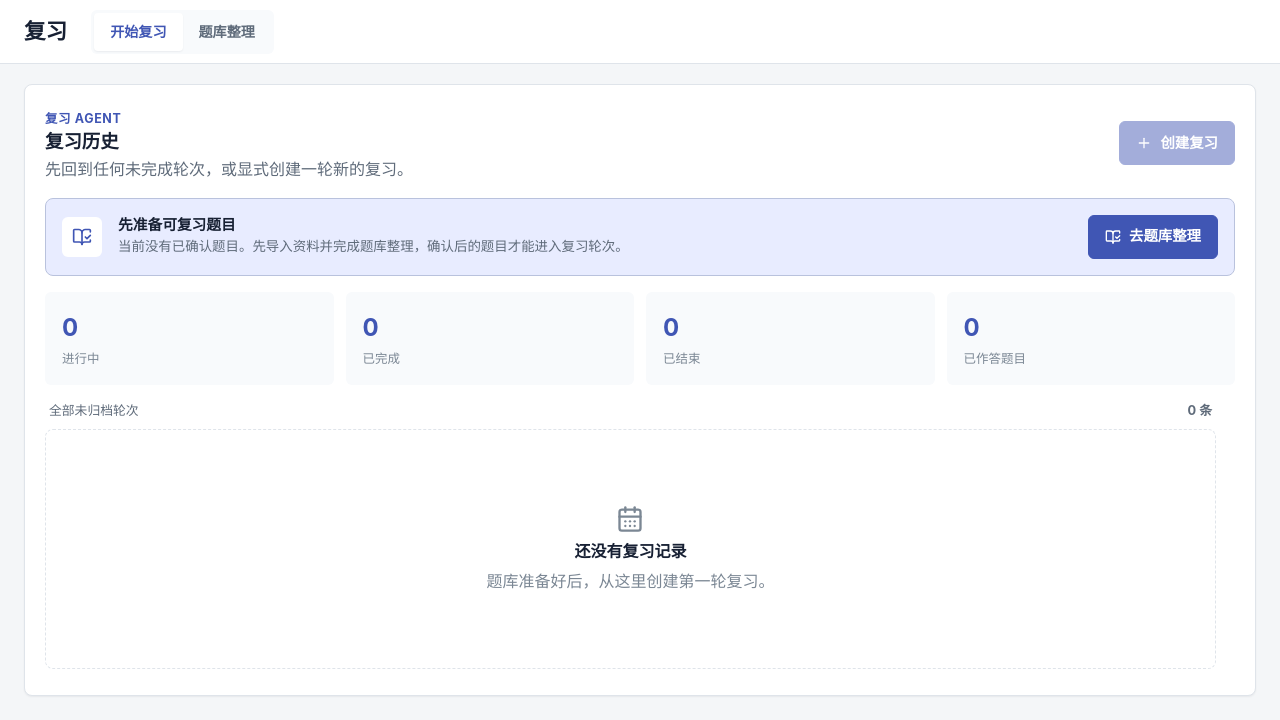
R2 ReviewPage › separates question curation and review as primary entries
Expected: the button "创建复习" is disabled, x1=1119 y1=121 x2=1235 y2=165
Expected: the message named "题库尚未准备好" is shown, x1=45 y1=198 x2=1235 y2=276
Click the button "去题库整理": click(1153, 237) x1=1088 y1=215 x2=1218 y2=259
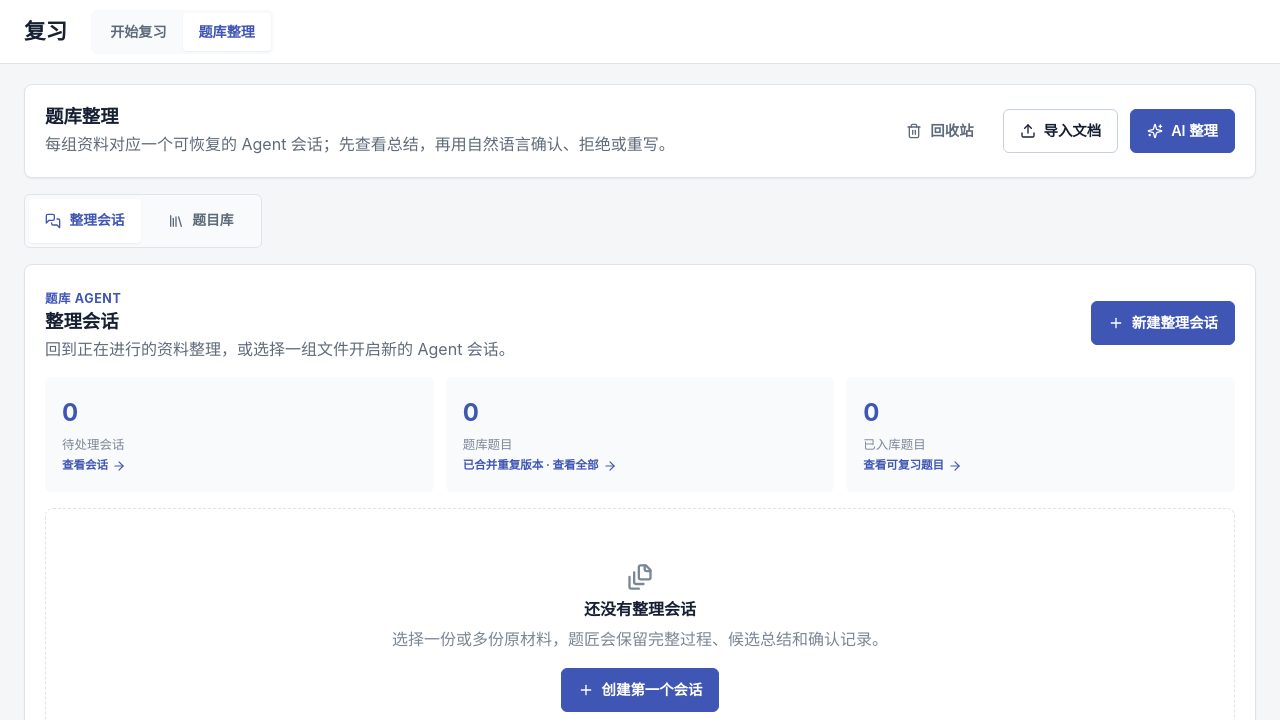
Expected: the heading "题库整理" is shown, x1=45 y1=105 x2=119 y2=127
Result: the button "创建复习" is gone
